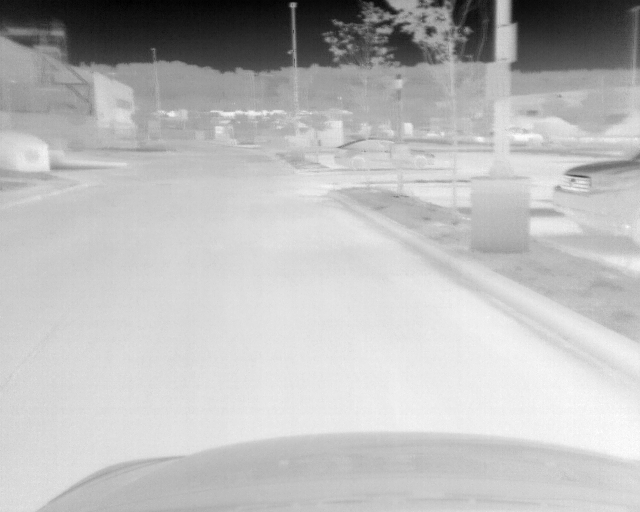car: (550, 149, 640, 247), (336, 137, 440, 174), (503, 126, 540, 145)
